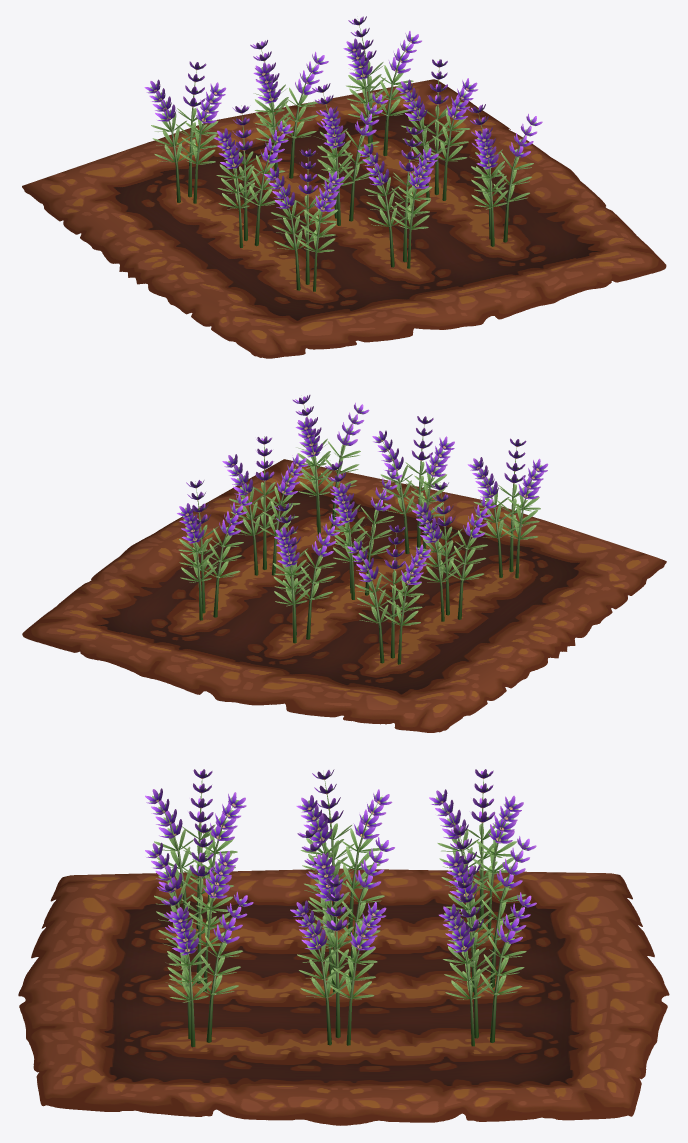
Rendered from Lavender_Field_Lv2.FBX.
The picture shows the model from 3 angles, top to bottom: view 1: azimuth 30°, elevation 25°; view 2: azimuth 150°, elevation 25°; view 3: azimuth 270°, elevation 25°; orthographic projection. The views are drawn at different scales.
Parts seen in each view (by area): view 1: Lavender_Field_Lv2; view 2: Lavender_Field_Lv2; view 3: Lavender_Field_Lv2.
Part boxes in pixels (x1,y1,x2,y2): Lavender_Field_Lv2: [22, 16, 666, 358]; Lavender_Field_Lv2: [22, 395, 666, 732]; Lavender_Field_Lv2: [18, 769, 669, 1125].
Bounding box in the file's own units: 274 × 78.15 × 296.
